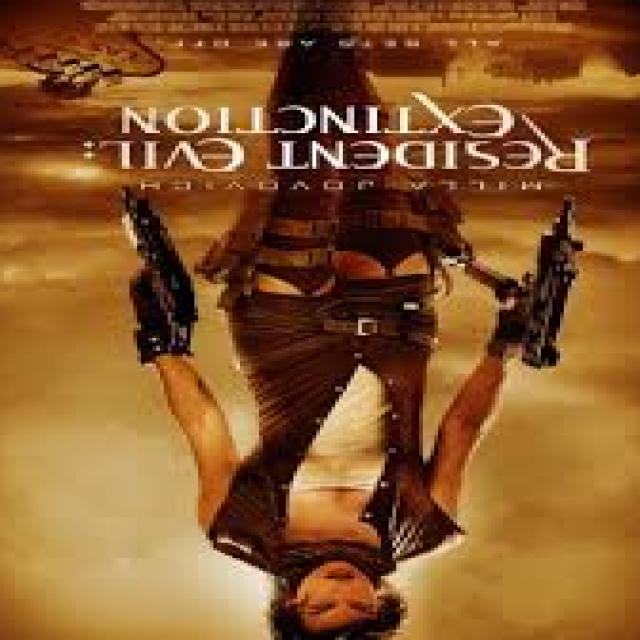gun: (52, 184, 230, 392), (444, 169, 594, 385)
